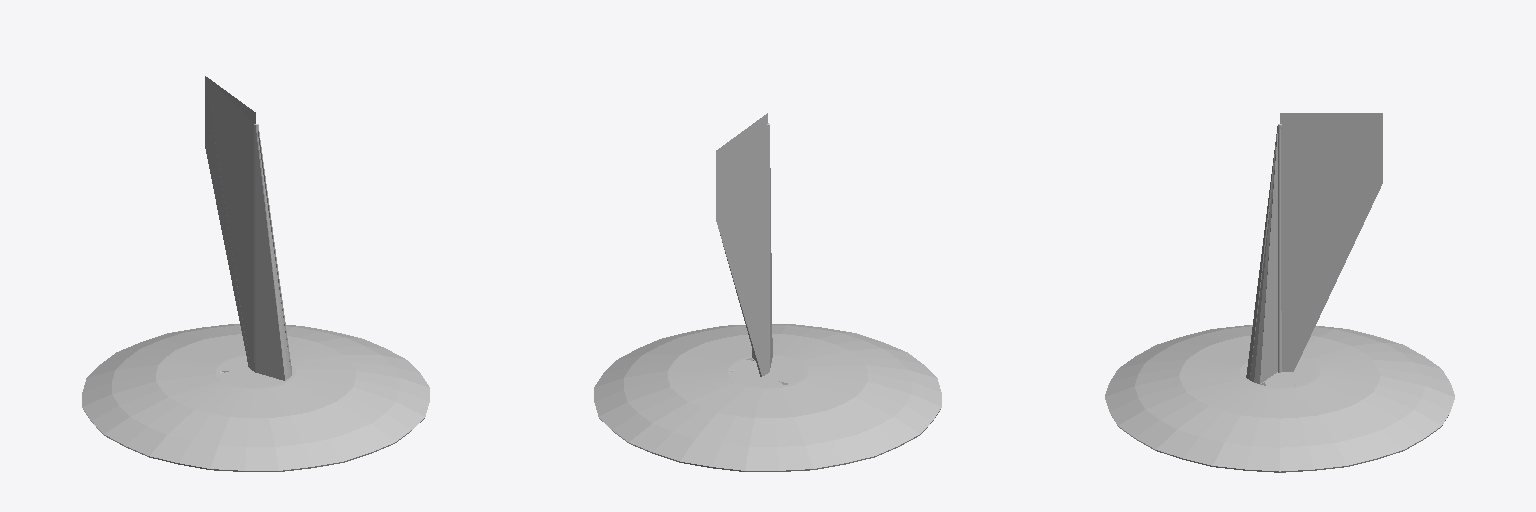
The model's file is Golf Cup.obj.
3 renders of one model, left to right at view 1: azimuth 30°, elevation 25°; view 2: azimuth 150°, elevation 25°; view 3: azimuth 270°, elevation 25°, orthographic.
Visible parts, largest first — view 1: default_default1, node; view 2: default_default1, node; view 3: default_default1, node.
Boxes of the visible parts, x1,y1,x2,y2 form: default_default1: [82, 79, 429, 471]; node: [205, 76, 424, 429]; default_default1: [594, 123, 941, 471]; node: [716, 113, 803, 386]; default_default1: [1105, 113, 1454, 472]; node: [1136, 113, 1381, 449].
Bounding box in the file's own units: 343 × 309 × 343.